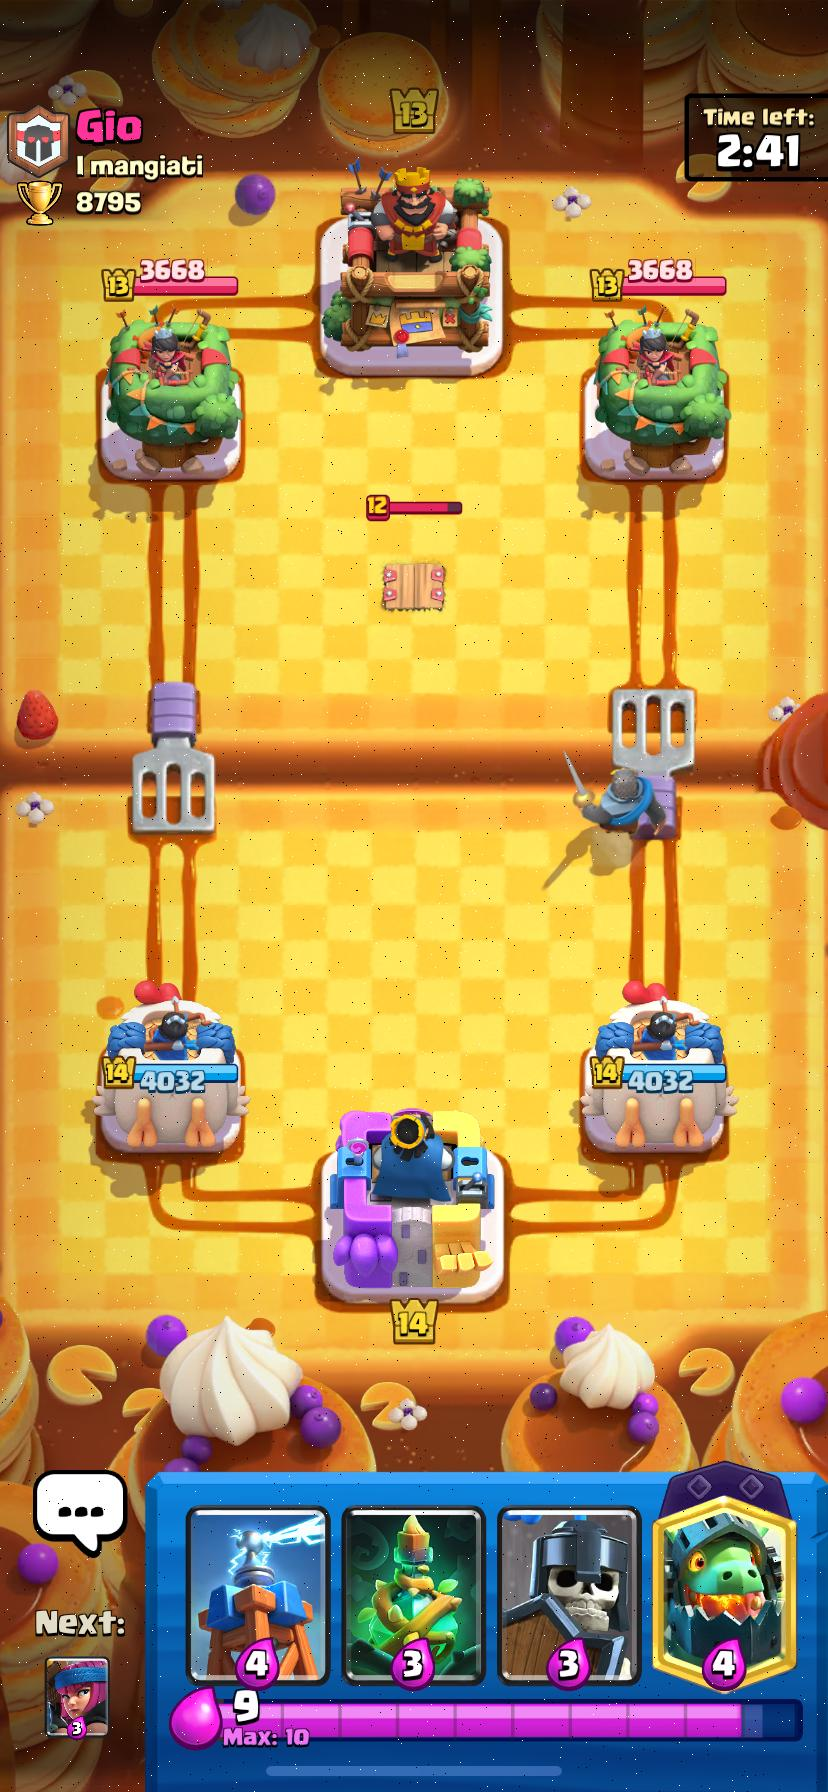EKingTower: (320, 168, 502, 375)
ETesla: (382, 562, 445, 610)
EnemyPrincessTower: (105, 309, 242, 475), (594, 307, 729, 477)
OKnight: (566, 757, 667, 837)
OwnKingTower: (321, 1109, 503, 1303)
OwnPrincessTower: (580, 982, 737, 1154), (93, 982, 248, 1152)
